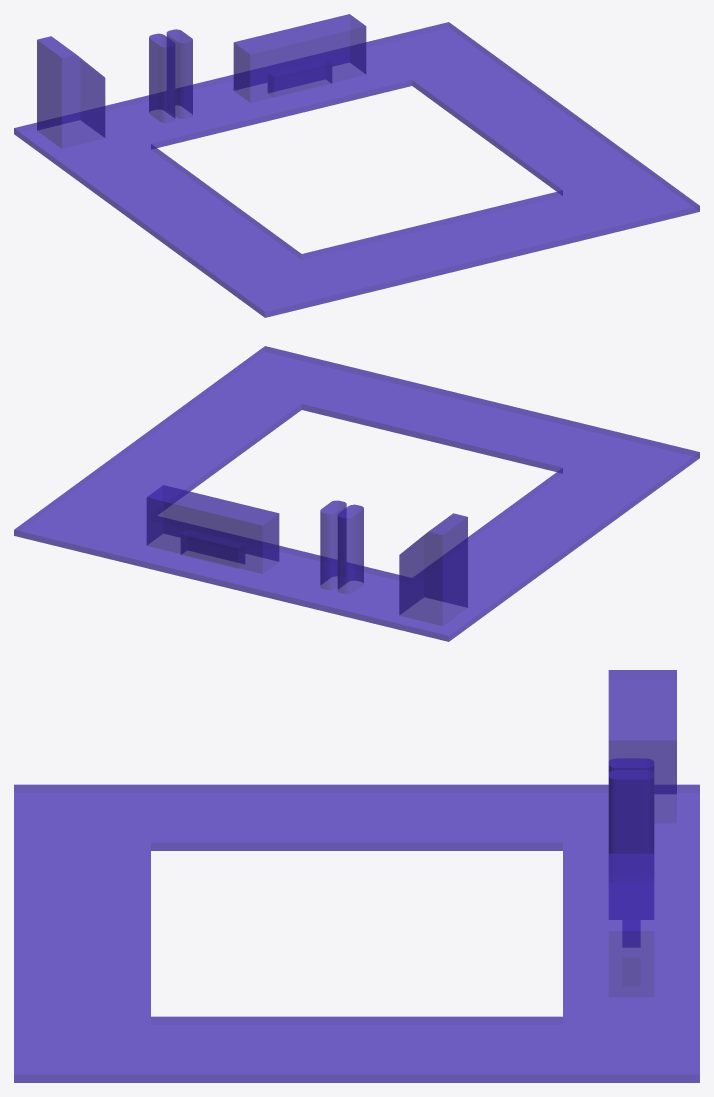
Rendered from model-transparent.gltf.
The picture shows the model from 3 angles, top to bottom: view 1: azimuth 30°, elevation 25°; view 2: azimuth 150°, elevation 25°; view 3: azimuth 270°, elevation 25°; orthographic projection. The views are drawn at different scales.
Parts seen in each view (by area): view 1: Model; view 2: Model; view 3: Model.
Boxes of the visible parts, <box> form: Model: <box>14,14,699,317</box>; Model: <box>14,346,699,641</box>; Model: <box>14,670,699,1082</box>.
Size of the model in its own units: 15 by 3.2 by 15.
